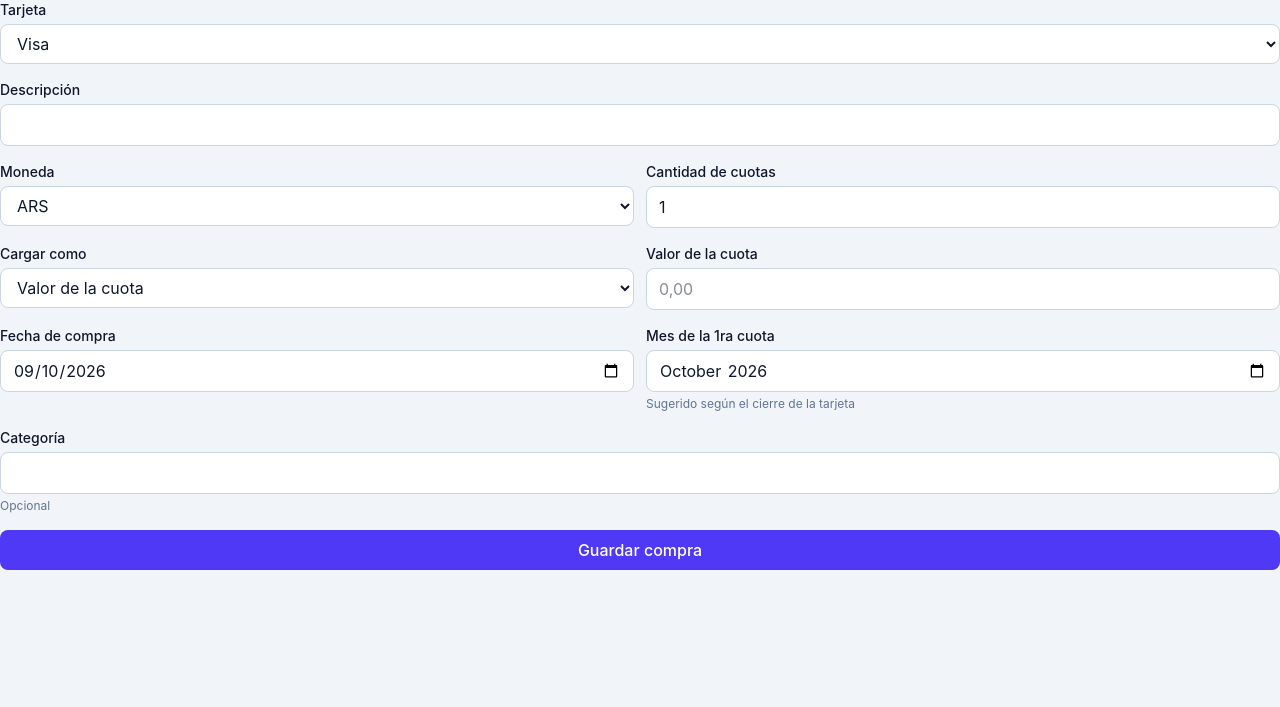
Scenario: PurchaseForm › vista previa avisa meses en negativo
Type "Tele" into the field labelled "Descripción". click: (640, 125)
box: [0, 104, 1279, 146]
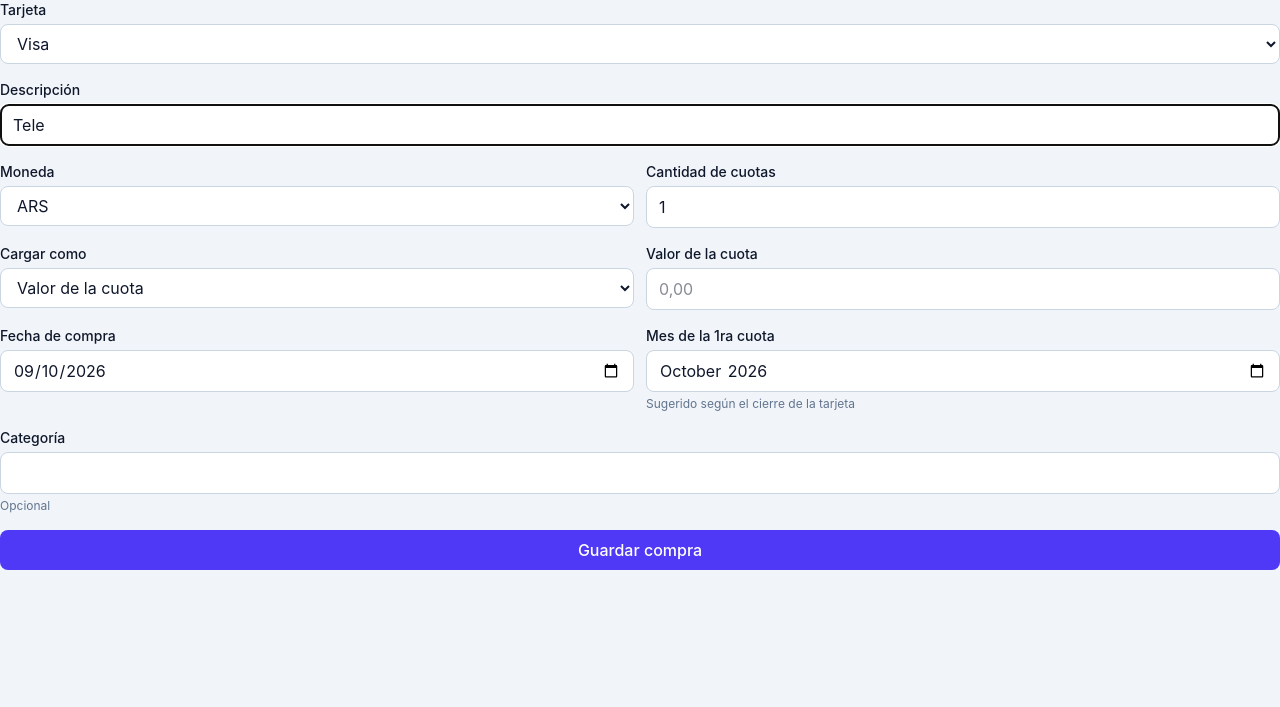
Type "10.000" into the field labelled "Valor de la cuota". click: (963, 289)
box: [646, 268, 1279, 310]
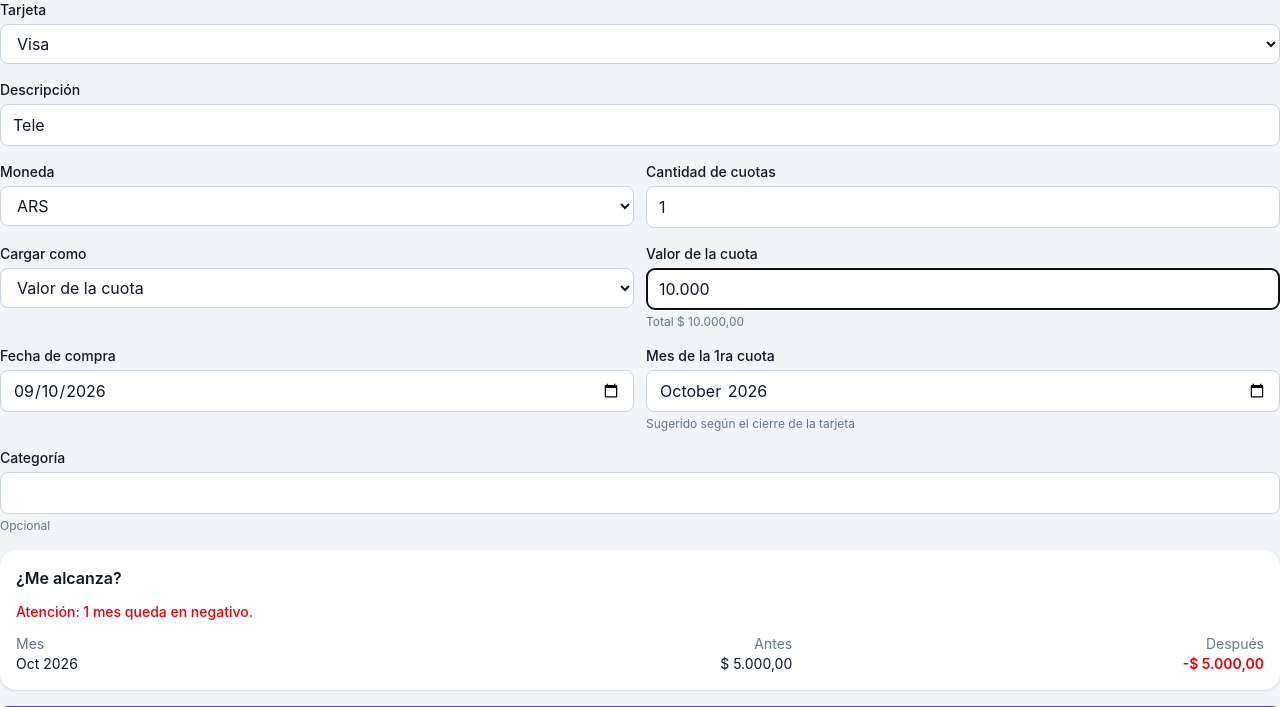
Now the text "Atención: 1 mes queda en negativo." is shown, box [16, 603, 253, 620]
